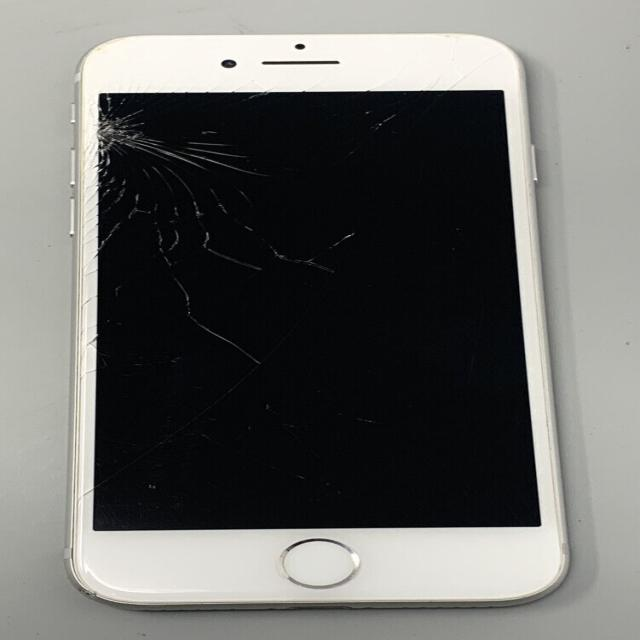Crack: (97, 93, 260, 284), (79, 94, 168, 200)
